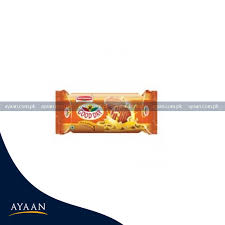gooday-small: (53, 88, 159, 135)
